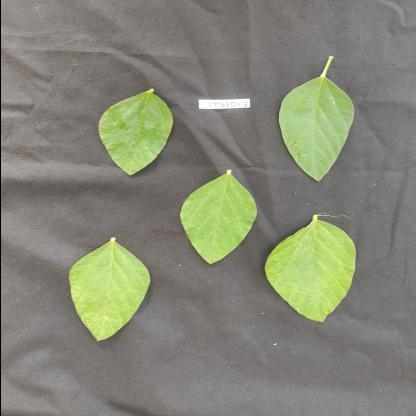label: (198, 80, 250, 118)
leaflets: (255, 209, 384, 336), (271, 52, 356, 190), (161, 172, 263, 280), (79, 226, 155, 352), (102, 79, 176, 171)
